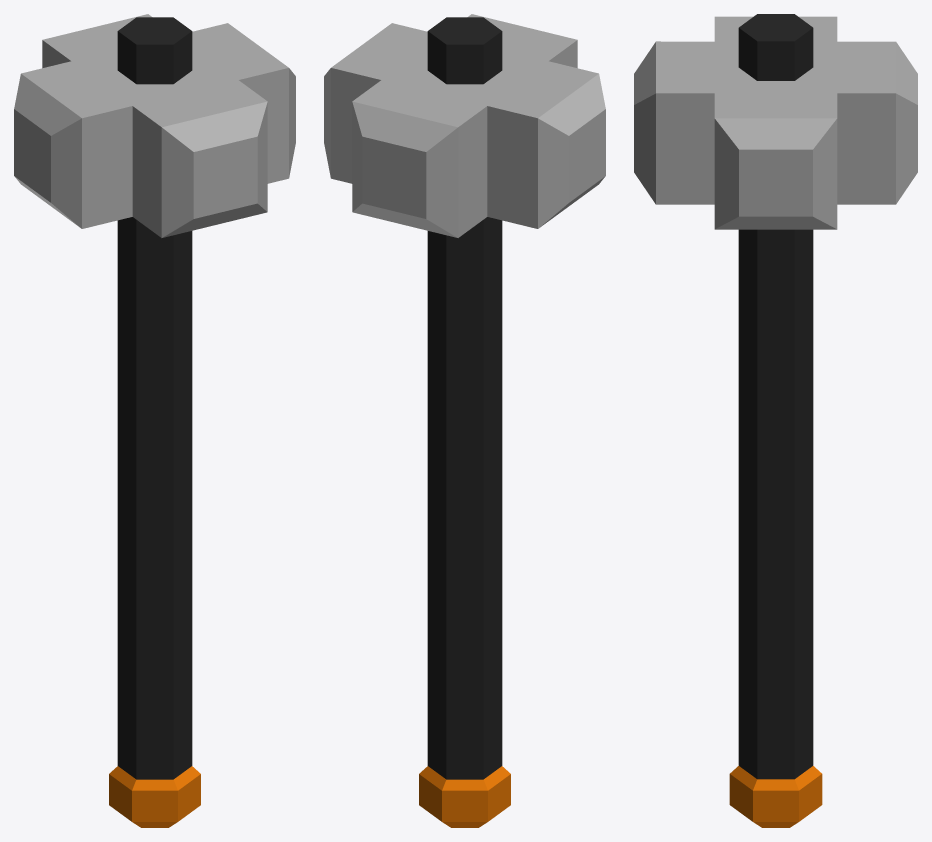
The model's file is Weapon_FM_Mace.glb.
3 views of the same model, side by side, from view 1: azimuth 30°, elevation 25°; view 2: azimuth 150°, elevation 25°; view 3: azimuth 270°, elevation 25° (orthographic).
Visible parts, largest first — view 1: Weapon_Mace; view 2: Weapon_Mace; view 3: Weapon_Mace.
Part boxes in pixels (left/top/right/bottom): Weapon_Mace: left=14, top=14, right=295, bottom=827; Weapon_Mace: left=324, top=14, right=605, bottom=827; Weapon_Mace: left=634, top=14, right=917, bottom=827.
Size of the model in its own units: 0.2768 by 0.85 by 0.2768.
